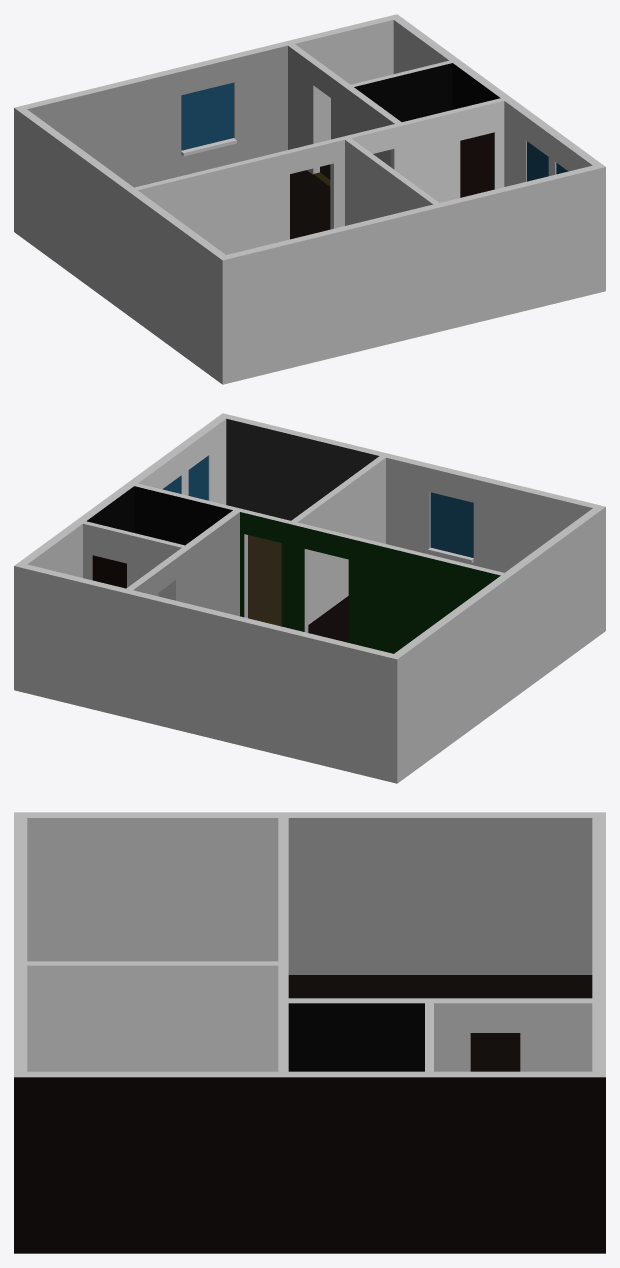
File: building.fbx
The picture shows the model from 3 angles, top to bottom: view 1: azimuth 30°, elevation 25°; view 2: azimuth 150°, elevation 25°; view 3: azimuth 270°, elevation 25°; orthographic projection. The views are drawn at different scales.
Parts seen in each view (by area): view 1: building (×10); view 2: building (×13); view 3: building (×7).
Part boxes in pixels (x1=…): building (×10): x1=14, y1=14, x2=605, y2=384; building (×13): x1=14, y1=413, x2=605, y2=783; building (×7): x1=14, y1=812, x2=605, y2=1253.
Size of the model in its own units: 2285 by 708 by 2155.
